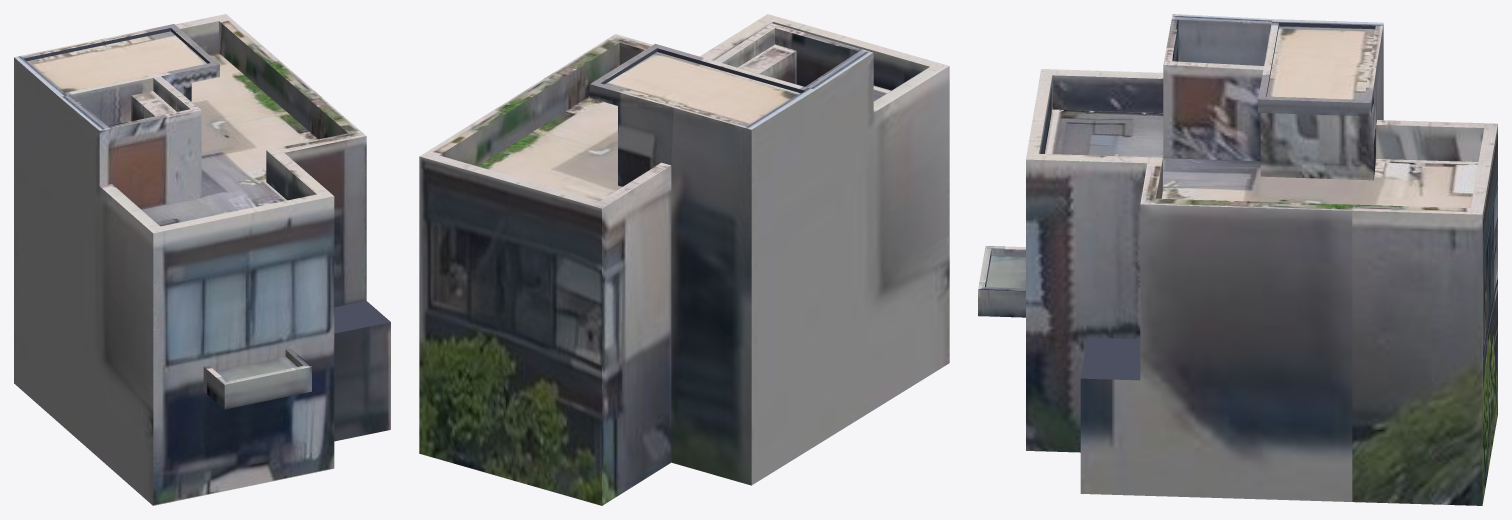
3 views of the same model, side by side, from view 1: azimuth 30°, elevation 25°; view 2: azimuth 150°, elevation 25°; view 3: azimuth 270°, elevation 25° (orthographic). The views are drawn at different scales.
Visible parts, largest first — view 1: B283234038501062A0; view 2: B283234038501062A0; view 3: B283234038501062A0.
Part boxes in pixels (x1,y1,x2,y2): B283234038501062A0: (14,14,390,505); B283234038501062A0: (419,14,949,505); B283234038501062A0: (978,14,1497,505).
Size of the model in its own units: 9.99 by 11.2 by 15.05.
1 material, 1 textured.
